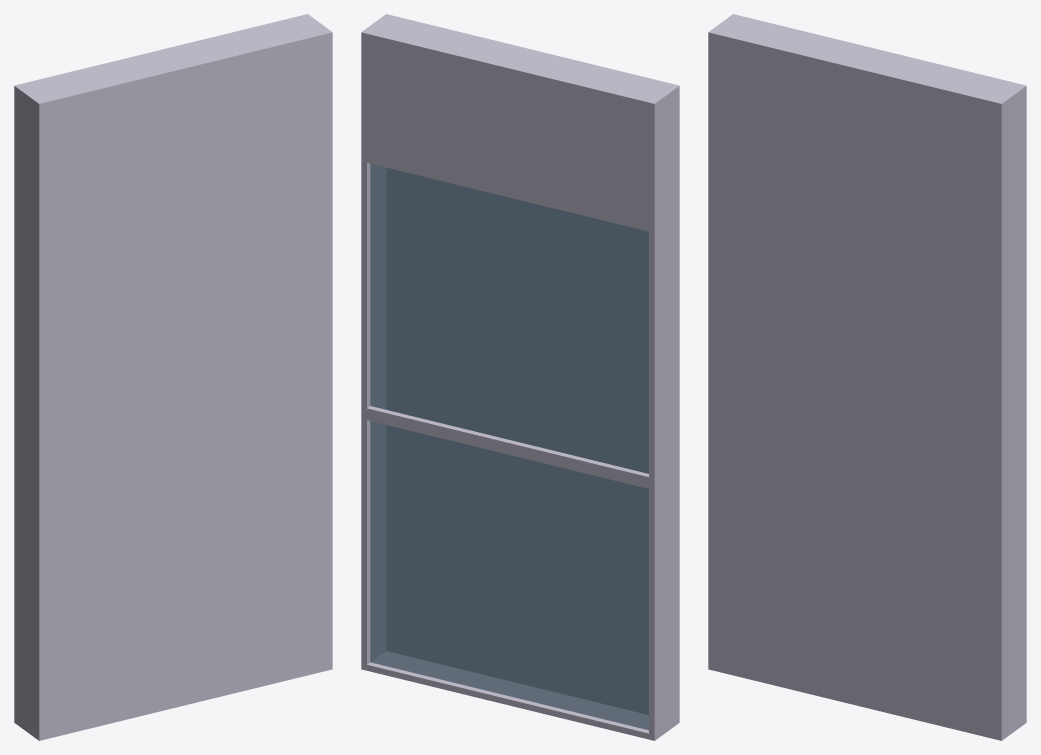
Rendered from p55-windows-stairs-angle.fbx.
3 renders of one model, left to right at view 1: azimuth 30°, elevation 25°; view 2: azimuth 150°, elevation 25°; view 3: azimuth 330°, elevation 25°, orthographic.
Visible parts, largest first — view 1: Cube; view 2: Cube; view 3: Cube.
Part boxes in pixels (x1,y1,x2,y2): Cube: (14,14,332,740); Cube: (361,14,679,740); Cube: (708,14,1026,740).
Bounding box in the file's own units: 135 × 280 × 19.96.
